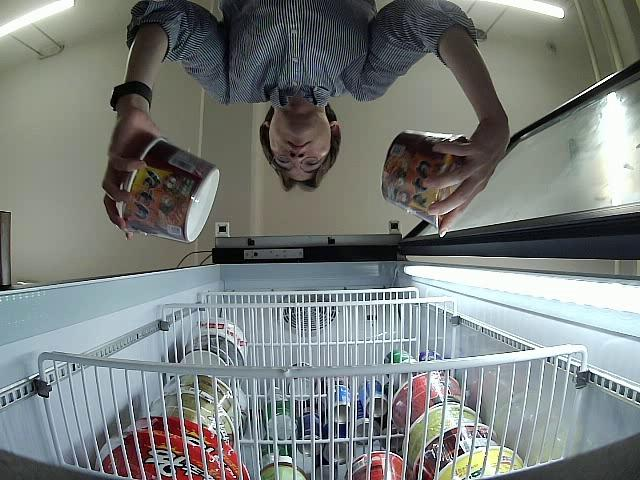00_hand: (420, 118, 507, 236), (100, 119, 157, 241)
05_nuguri_L: (118, 136, 220, 245), (383, 132, 466, 228)
